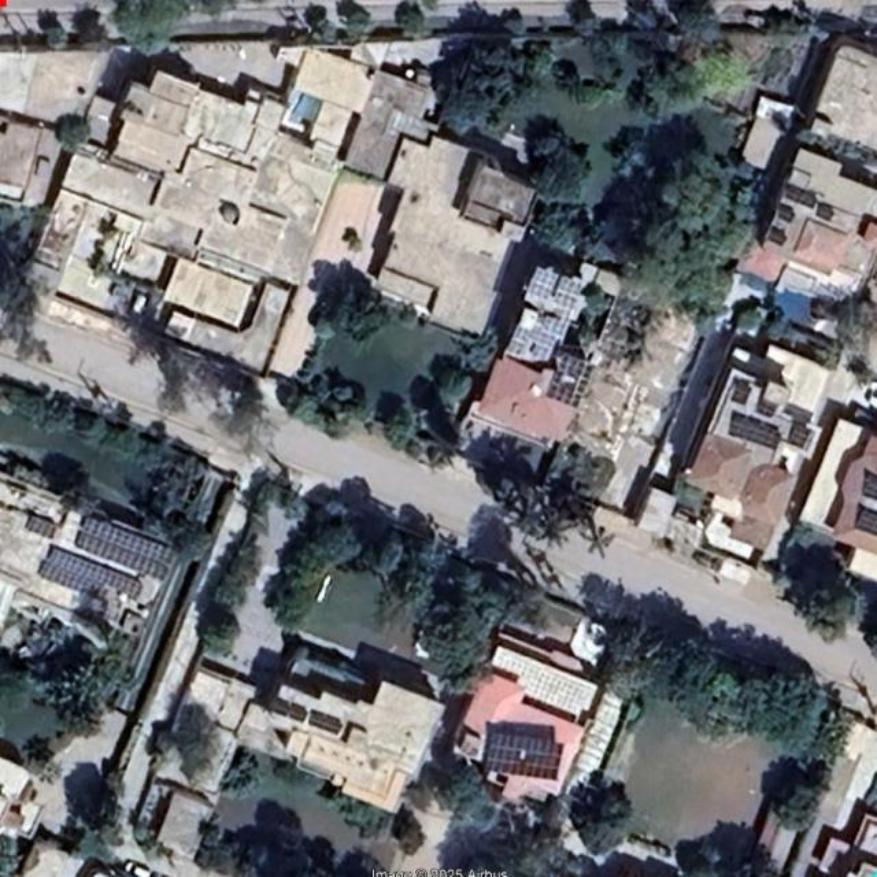Solarpanel: (504, 265, 583, 370), (72, 517, 175, 579), (38, 546, 140, 604), (486, 732, 564, 780), (733, 415, 784, 449), (27, 516, 57, 538), (859, 510, 876, 533), (863, 471, 876, 499)
